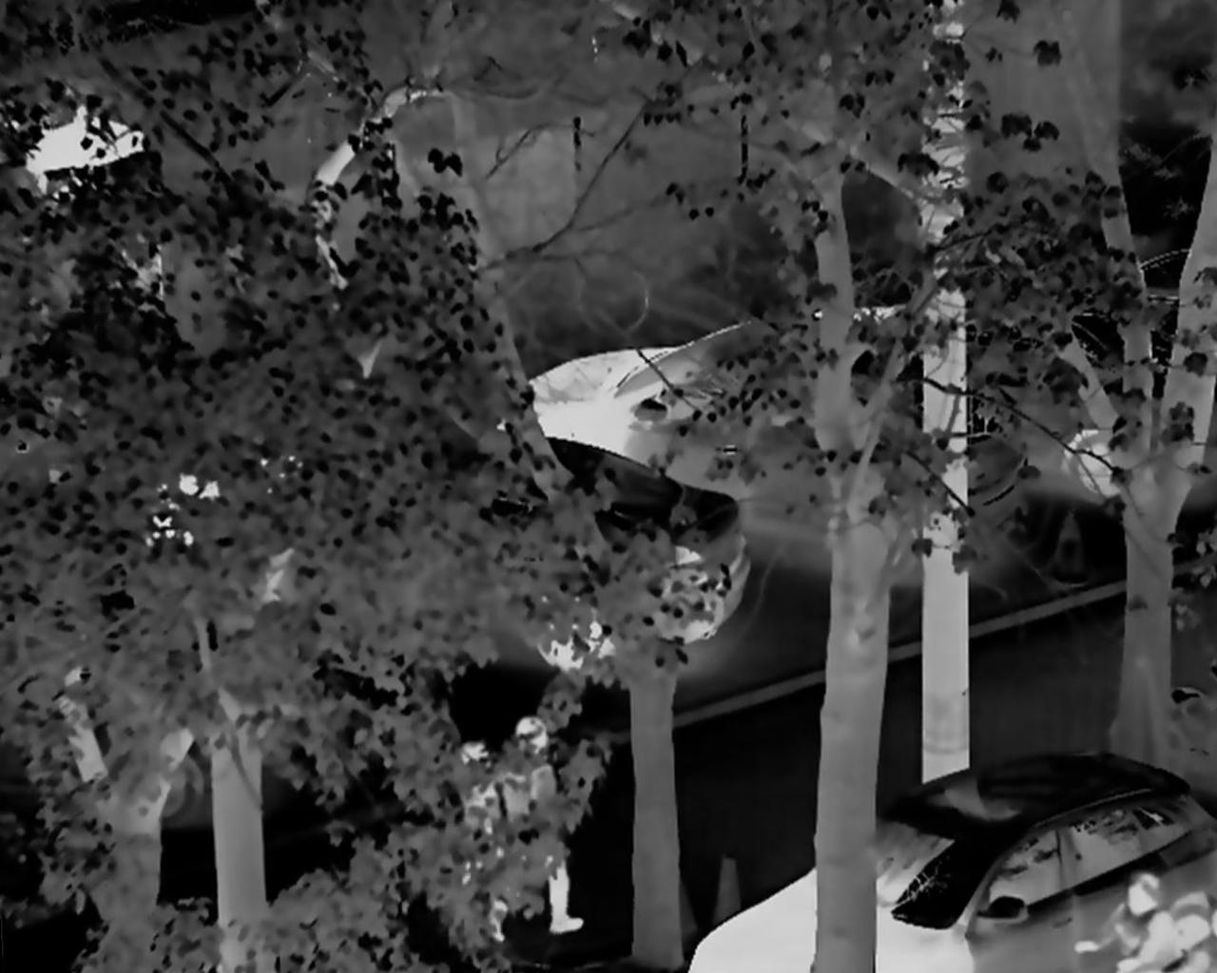person: (490, 710, 590, 937), (439, 730, 505, 907)
